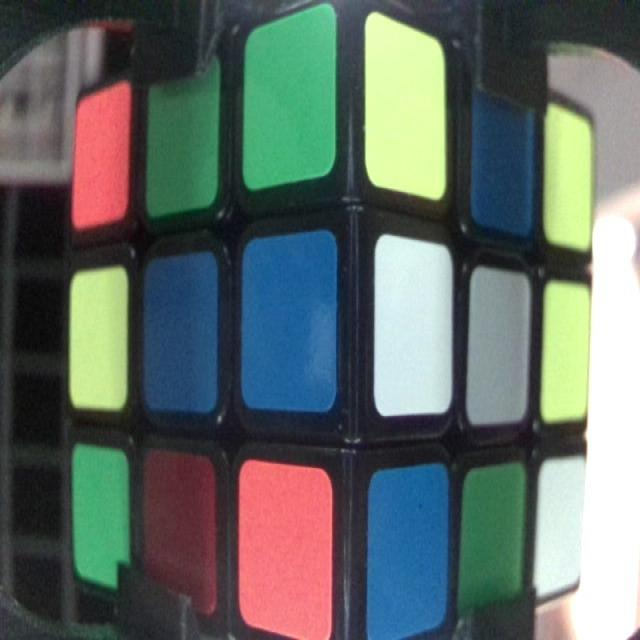b: (245, 238, 335, 408), (370, 468, 448, 632), (144, 257, 217, 411), (471, 77, 534, 230)
g: (245, 23, 334, 181), (146, 69, 217, 210), (458, 472, 524, 618), (73, 443, 129, 587)
o: (241, 464, 331, 634), (72, 95, 126, 228)
r: (145, 452, 217, 617)
w: (378, 238, 454, 413), (472, 264, 526, 428), (538, 460, 584, 597)
y: (364, 16, 446, 201), (71, 274, 124, 410), (544, 105, 591, 252), (544, 279, 588, 422)
